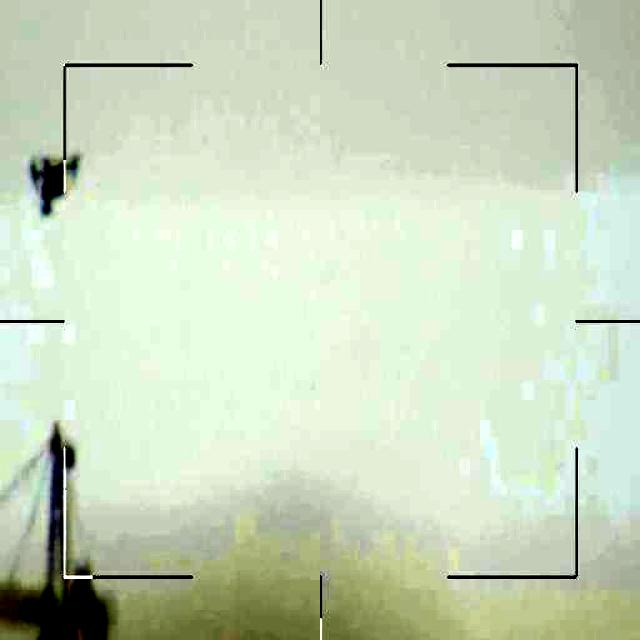bird: (29, 148, 88, 215)
